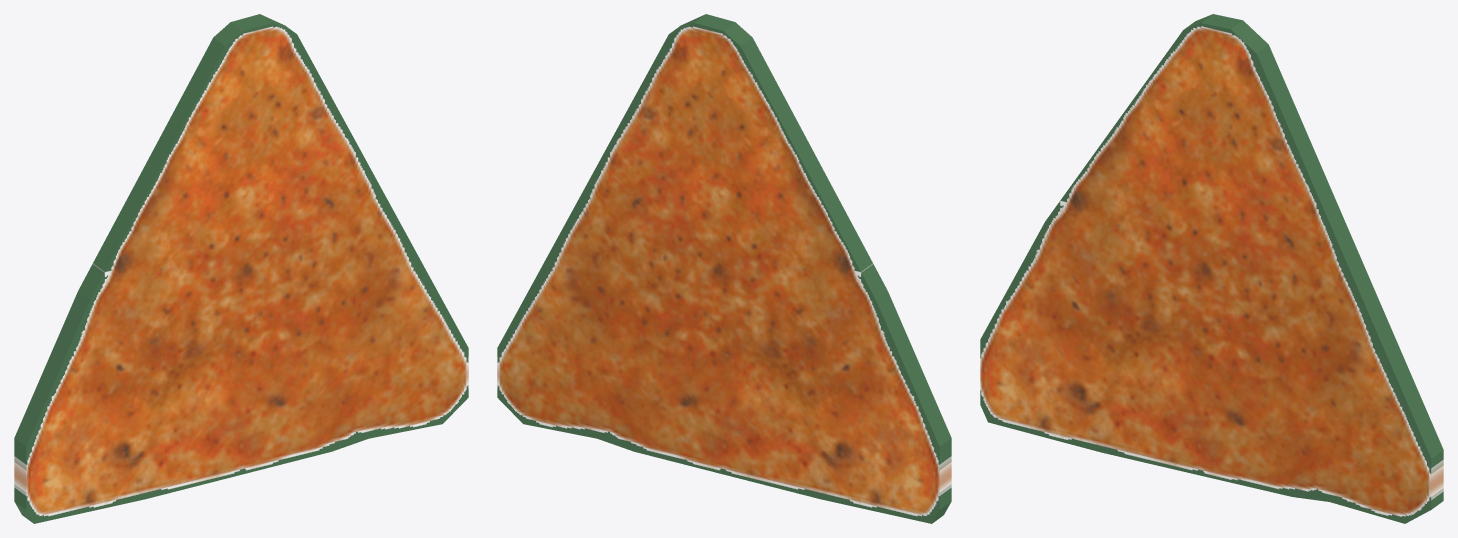
The model's file is nachoblender.glb.
3 renders of one model, left to right at view 1: azimuth 30°, elevation 25°; view 2: azimuth 150°, elevation 25°; view 3: azimuth 330°, elevation 25°, orthographic. The views are drawn at different scales.
Parts seen in each view (by area): view 1: Plane; view 2: Plane; view 3: Plane.
Boxes of the visible parts, x1,y1,x2,y2 form: Plane: [14, 14, 468, 523]; Plane: [497, 14, 951, 523]; Plane: [980, 14, 1443, 523].
Bounding box in the file's own units: 2 × 1.93 × 0.0946.
1 material, 1 textured.
